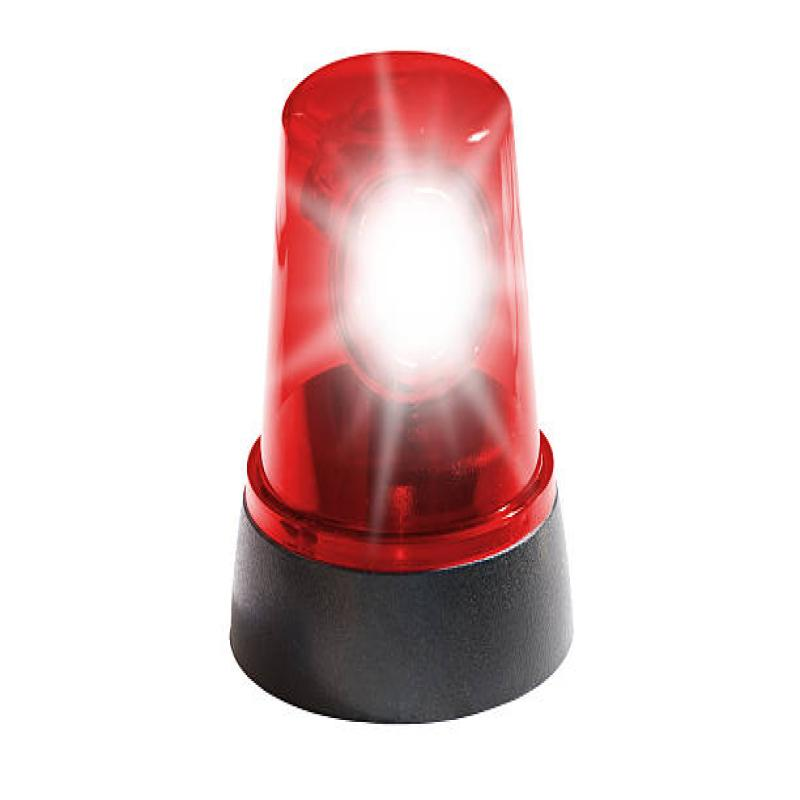AmbulanceSiren: (255, 38, 584, 732)
